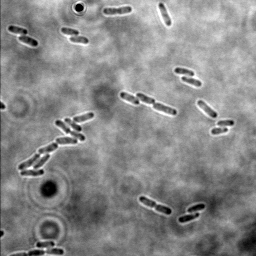Dividing: (135, 91, 178, 117), (138, 194, 173, 216), (101, 5, 133, 16), (26, 247, 65, 256)
Microcolony: (17, 111, 96, 178)
Rod: (195, 98, 218, 119), (157, 1, 173, 29), (118, 90, 140, 106), (17, 34, 40, 49), (184, 201, 208, 215), (179, 76, 203, 89), (173, 65, 196, 78), (177, 211, 200, 224), (7, 24, 28, 38), (59, 26, 80, 38), (68, 35, 90, 46), (209, 126, 229, 137), (216, 118, 236, 128), (35, 239, 56, 248)
